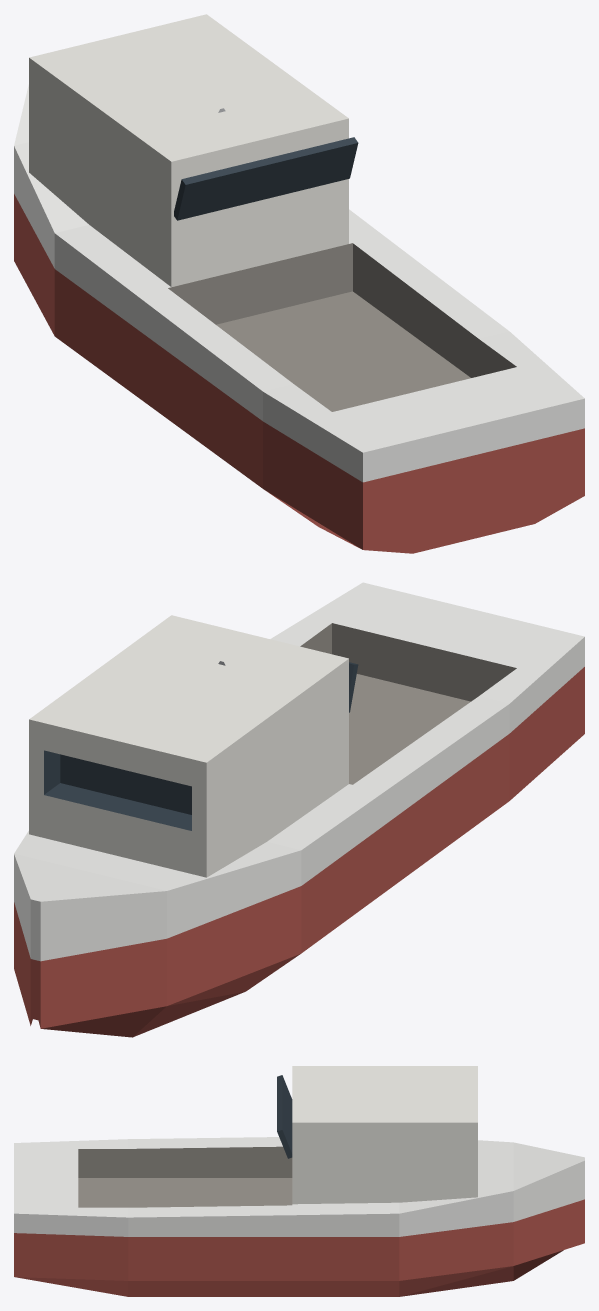
The model's file is launch.glb.
The picture shows the model from 3 angles, top to bottom: view 1: azimuth 30°, elevation 25°; view 2: azimuth 150°, elevation 25°; view 3: azimuth 270°, elevation 25°; orthographic projection. The views are drawn at different scales.
Visible parts, largest first — view 1: launch; view 2: launch; view 3: launch.
Boxes of the visible parts, bbox=[...] form: launch: bbox=[14, 14, 584, 553]; launch: bbox=[14, 582, 584, 1037]; launch: bbox=[14, 1066, 584, 1296].
Size of the model in its own units: 2.6 by 2.83 by 8.
